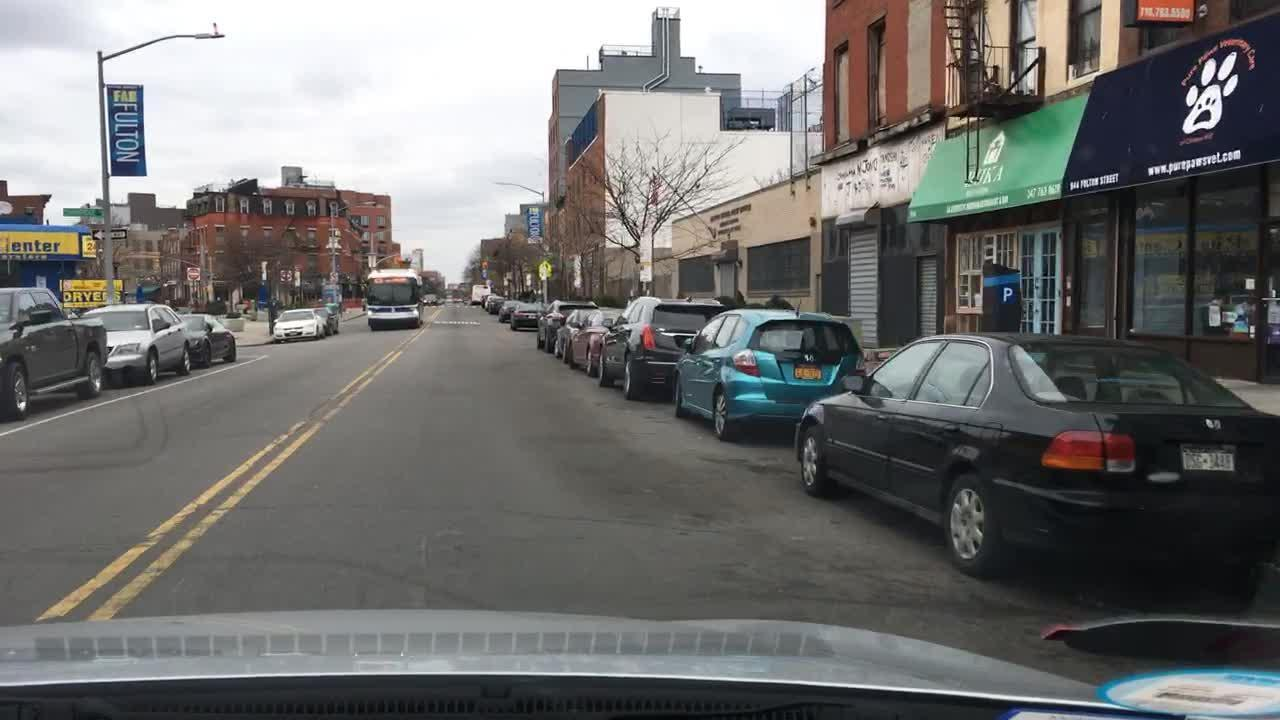Honda: (1196, 408, 1239, 440), (799, 348, 818, 367)
